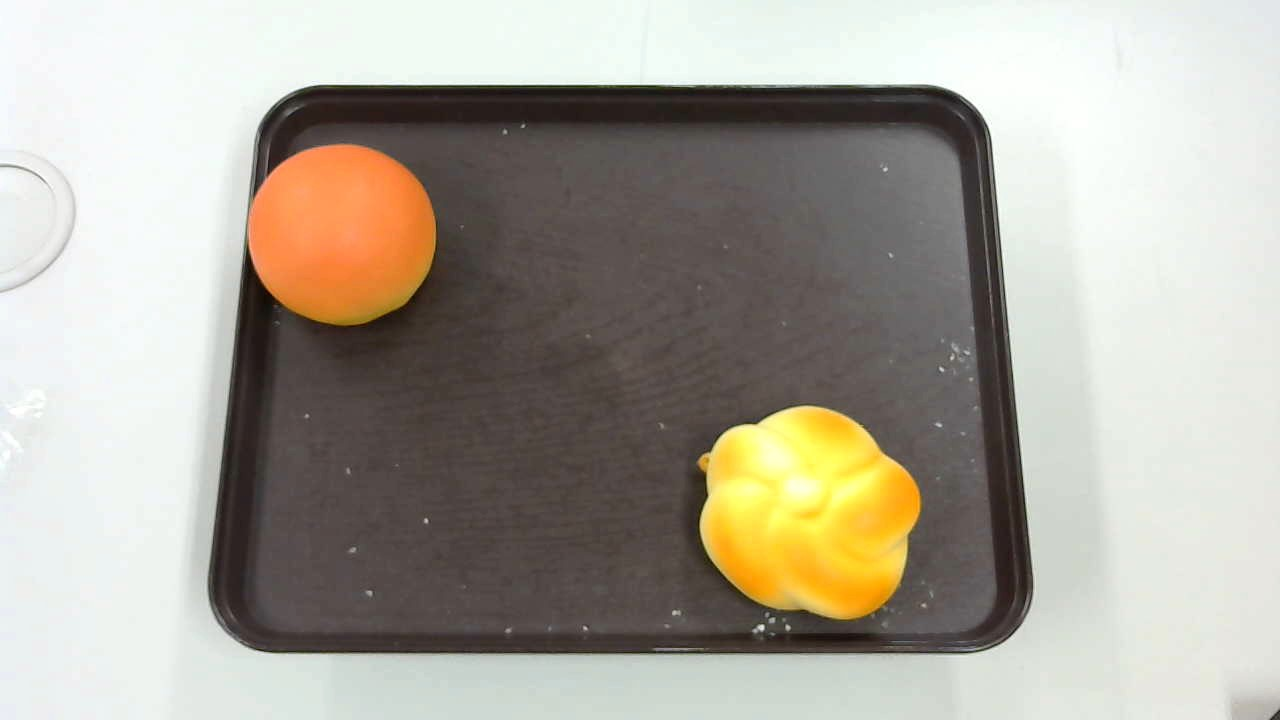bun: (248, 144, 437, 324)
twist bread: (696, 405, 921, 619)
